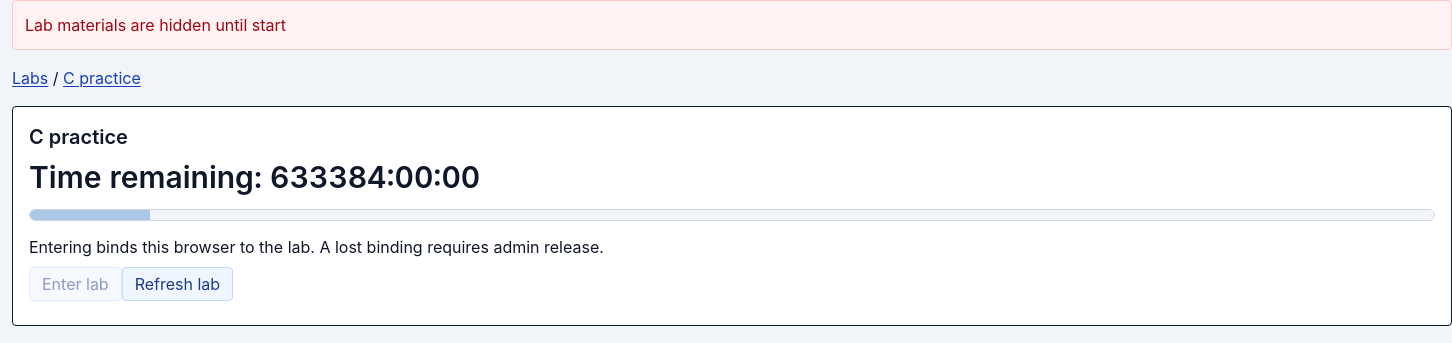
Test: a scheduled lab enables explicit entry when its start is reached
Check: the button "Enter lab" is disabled, box [29,267,122,301]
Click the button "Refresh lab" at (177, 284), box [122,267,233,301]
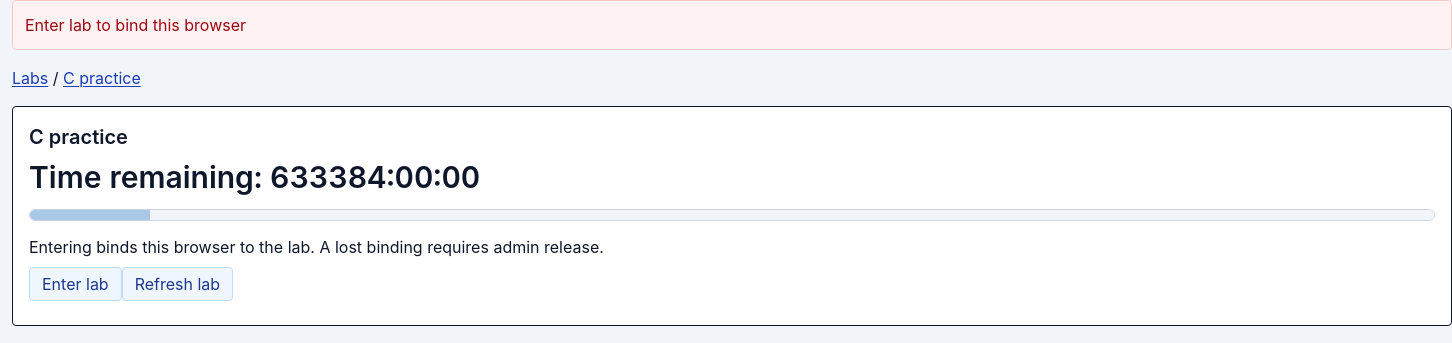
Check: the button "Enter lab" is enabled, box [29,267,122,301]
